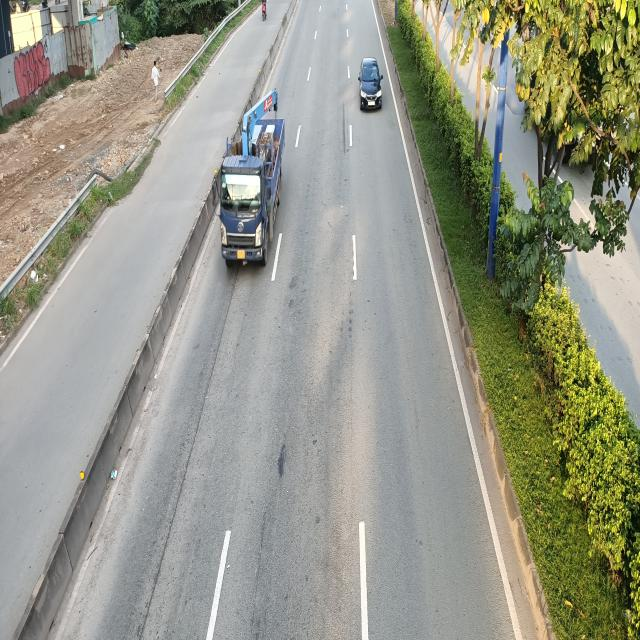car: (358, 59, 382, 112)
truck: (213, 94, 287, 272)
